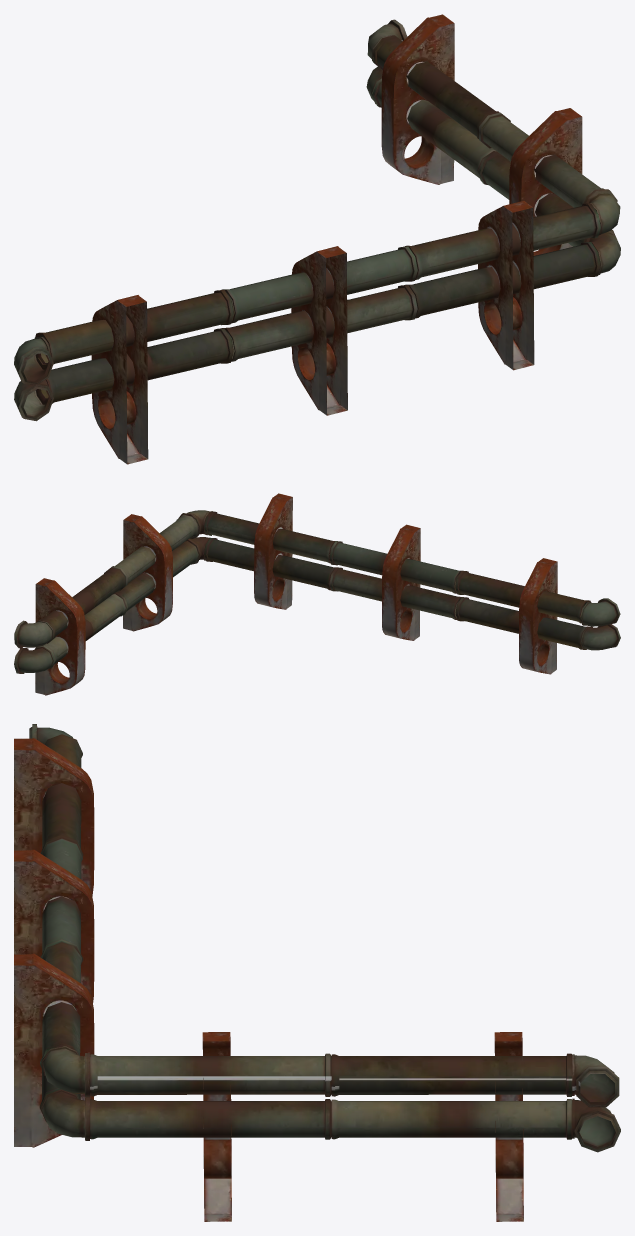
Rendered from Corner_Pipe.glb.
3 renders of one model, top to bottom at view 1: azimuth 30°, elevation 25°; view 2: azimuth 150°, elevation 25°; view 3: azimuth 270°, elevation 25°, orthographic. The views are drawn at different scales.
Parts seen in each view (by area): view 1: Corner_Pipe; view 2: Corner_Pipe; view 3: Corner_Pipe.
Part boxes in pixels (x1,y1,x2,y2): Corner_Pipe: (14,14,620,464); Corner_Pipe: (14,493,620,695); Corner_Pipe: (14,724,620,1221).
Bounding box in the file's own units: 7.12 × 1.71 × 5.13.
Materials: 1 (1 with a texture image).
